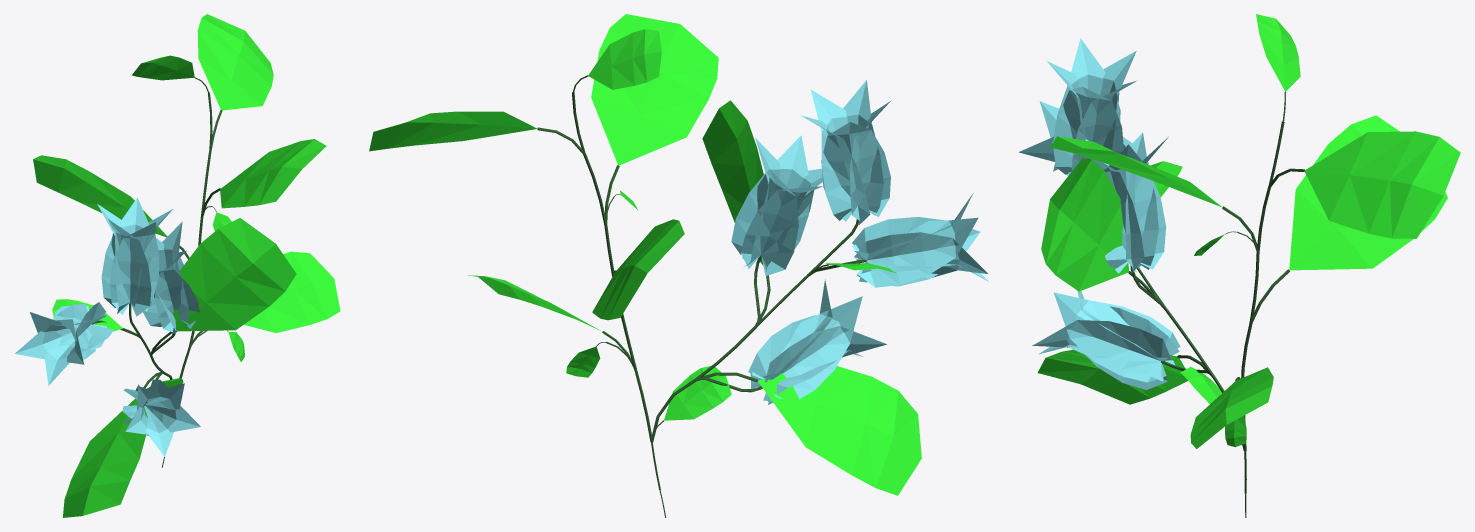
Rendered from plants1.obj.
The picture shows the model from 3 angles, left to right: view 1: azimuth 30°, elevation 25°; view 2: azimuth 150°, elevation 25°; view 3: azimuth 270°, elevation 25°; orthographic projection. The views are drawn at different scales.
Parts seen in each view (by area): view 1: Copyof; view 2: Copyof; view 3: Copyof.
Boxes of the visible parts, <box> form: Copyof: <box>15,14,340,517</box>; Copyof: <box>369,14,988,517</box>; Copyof: <box>1018,14,1460,517</box>.
Size of the model in its own units: 434 by 438 by 348.
